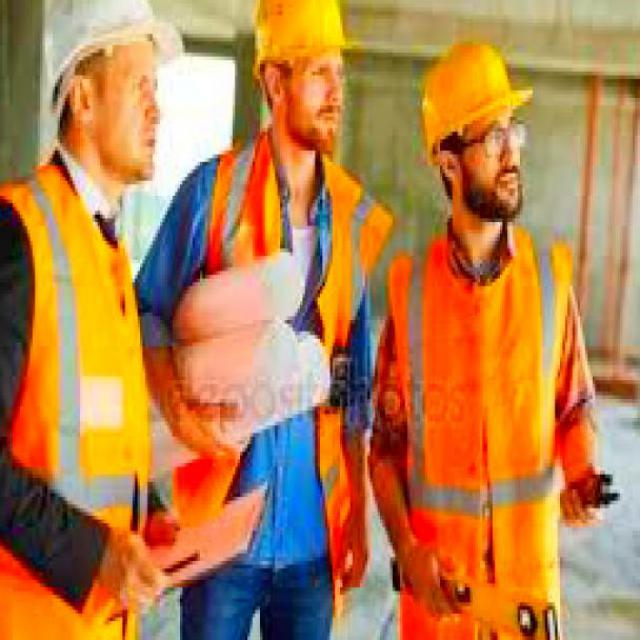helmet: (407, 18, 542, 245), (230, 0, 368, 162)
vest: (0, 154, 183, 637), (385, 214, 580, 636), (202, 139, 387, 568)
